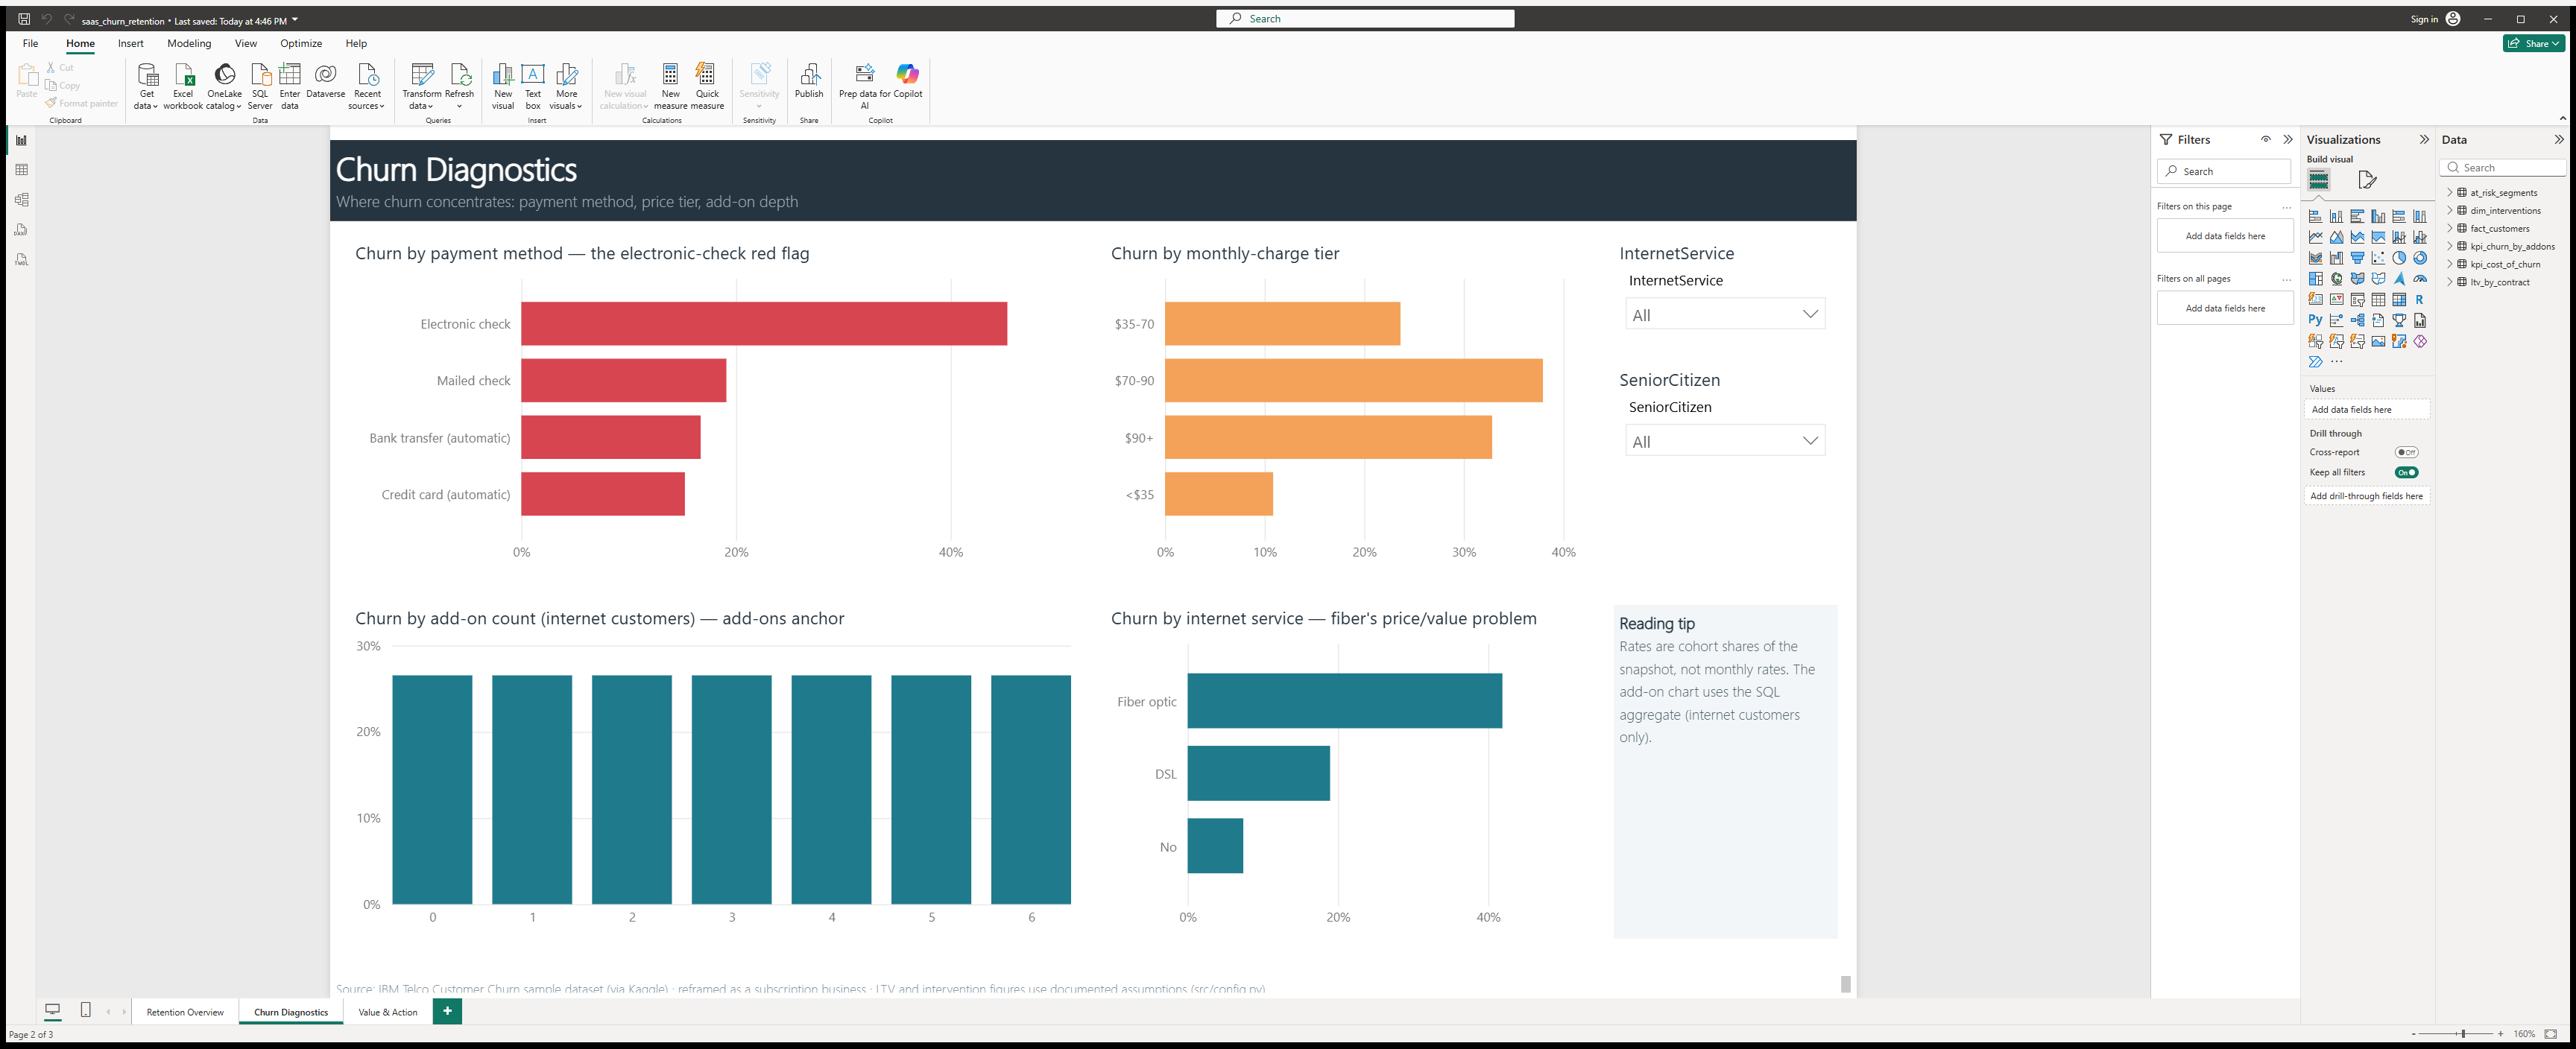

The dashboard page shown, as its layout file describes it:
{"tool":"powerbi","page":{"name":"Churn Diagnostics","canvas":[1280,720],"ordinal":1},"visuals":[{"type":"textbox","box":[0,0,1280,68],"z":0},{"type":"textbox","box":[0,696,1280,24],"z":1000},{"type":"clusteredBarChart","title":"Churn by payment method — the electronic-check red flag","fields":{"Category":["fact_customers.PaymentMethod"],"Y":["fact_customers.Churn Rate"]},"box":[16,84,610,280],"z":2000},{"type":"clusteredBarChart","title":"Churn by monthly-charge tier","fields":{"Category":["fact_customers.charge_tier"],"Y":["fact_customers.Churn Rate"]},"box":[650,84,400,280],"z":3000},{"type":"slicer","title":"InternetService","fields":{"Values":["fact_customers.InternetService"]},"box":[1076,84,188,92],"z":4000},{"type":"slicer","title":"SeniorCitizen","fields":{"Values":["fact_customers.SeniorCitizen"]},"box":[1076,190,188,92],"z":5000},{"type":"clusteredColumnChart","title":"Churn by add-on count (internet customers) — add-ons anchor","fields":{"Category":["kpi_churn_by_addons.n_addon_services"],"Y":["fact_customers.Churn Rate"]},"box":[16,390,610,280],"z":6000},{"type":"clusteredBarChart","title":"Churn by internet service — fiber's price/value problem","fields":{"Category":["fact_customers.InternetService"],"Y":["fact_customers.Churn Rate"]},"box":[650,390,400,280],"z":7000},{"type":"textbox","box":[1076,390,188,280],"z":8000}]}

Visuals, with their boxes on the page's 1280x720 design canvas (x1, y1, x2, y2). These are canvas units, not pixel positions in the 2576x1049 screenshot, which may show the page scaled, cropped or inside an application window:
textbox: 0:0:1280:68
textbox: 0:696:1280:720
"Churn by payment method — the electronic-check red flag" clusteredBarChart: 16:84:626:364
"Churn by monthly-charge tier" clusteredBarChart: 650:84:1050:364
"InternetService" slicer: 1076:84:1264:176
"SeniorCitizen" slicer: 1076:190:1264:282
"Churn by add-on count (internet customers) — add-ons anchor" clusteredColumnChart: 16:390:626:670
"Churn by internet service — fiber's price/value problem" clusteredBarChart: 650:390:1050:670
textbox: 1076:390:1264:670
